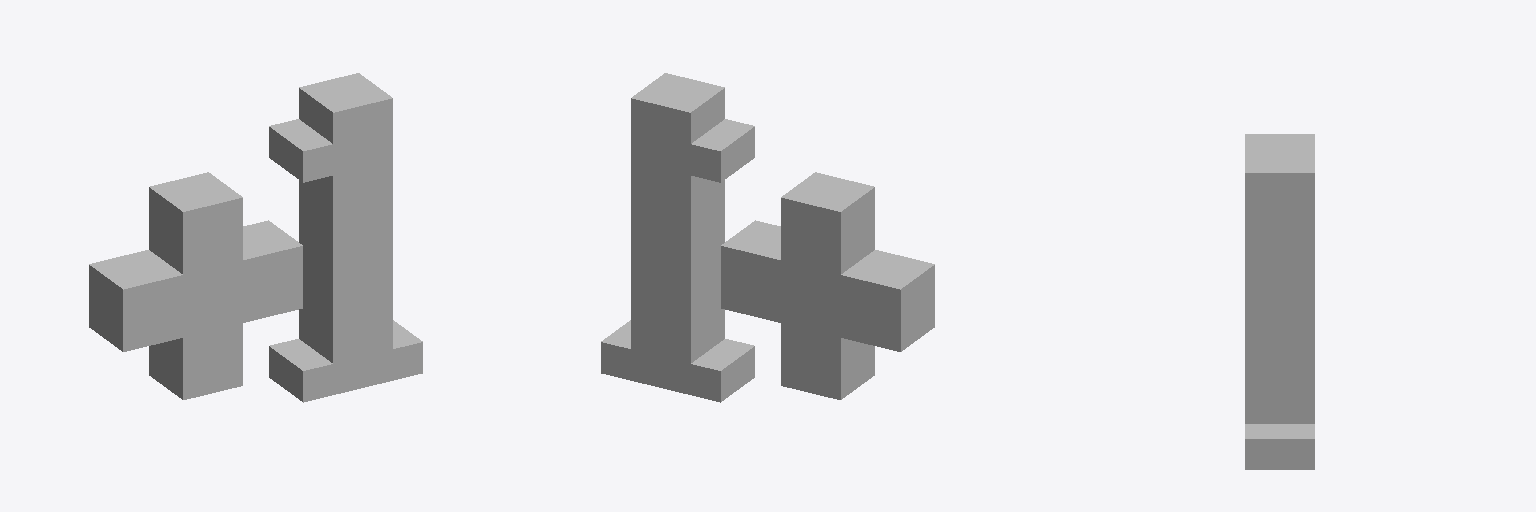
Rendered from plusone.obj.
3 views of the same model, side by side, from view 1: azimuth 30°, elevation 25°; view 2: azimuth 150°, elevation 25°; view 3: azimuth 270°, elevation 25° (orthographic).
Parts seen in each view (by area): view 1: plusone; view 2: plusone; view 3: plusone.
Boxes of the visible parts, box(x1,y1,x2,y2) form: plusone: box(89, 73, 422, 402); plusone: box(601, 73, 934, 402); plusone: box(1245, 134, 1314, 469).
Bounding box in the file's own units: 10 × 9 × 2.